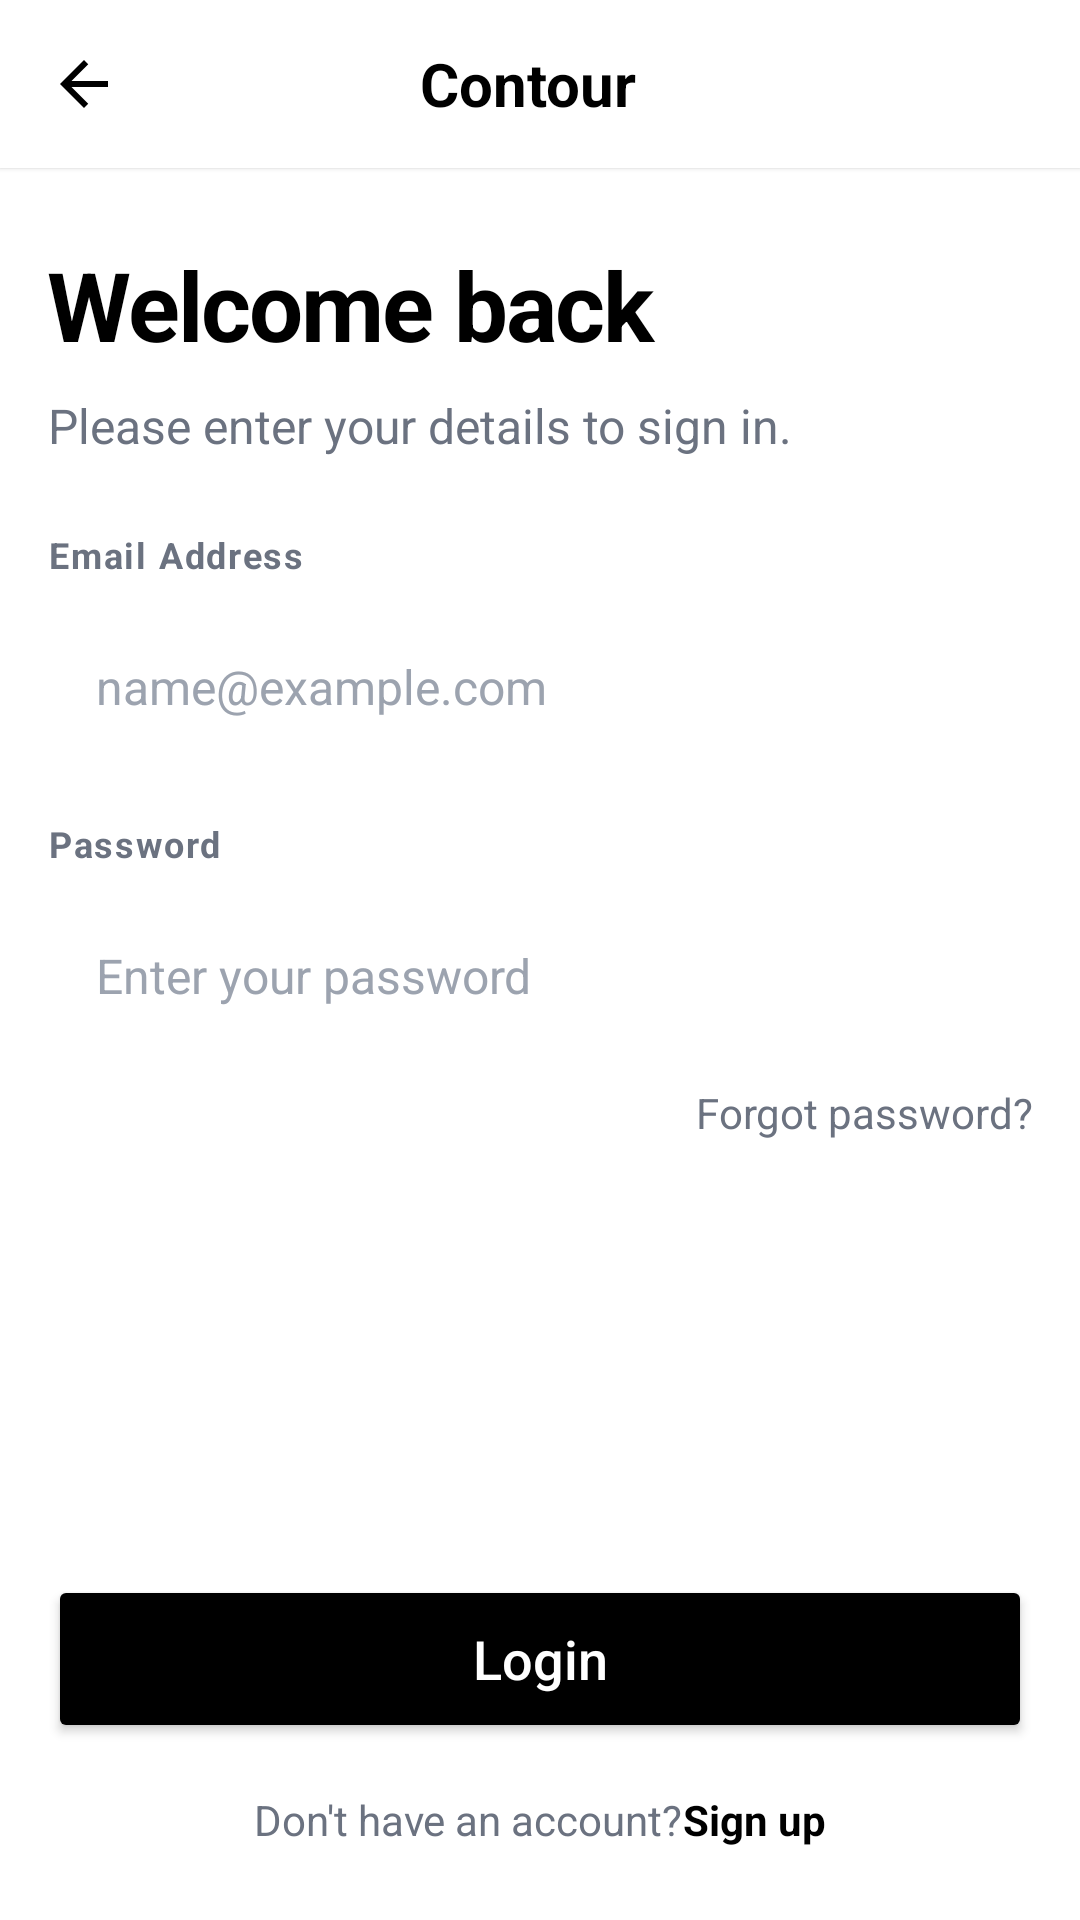

Icon bounding boxes for this 1080×1920 phone screenshot, format {"x1": x1, "y1": y1, "x2": x2, "y2": y2}:
Go back: {"x1": 60, "y1": 60, "x2": 108, "y2": 108}
